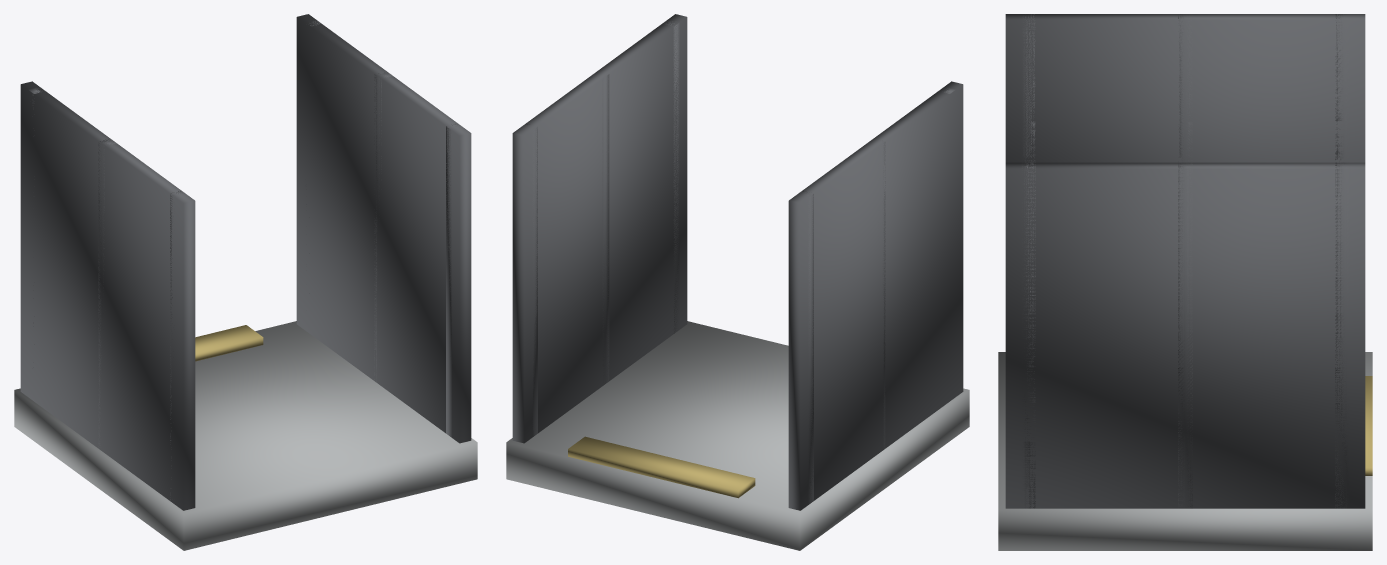
Rendered from floor_w100_d100_sides.glb.
The picture shows the model from 3 angles, left to right: view 1: azimuth 30°, elevation 25°; view 2: azimuth 150°, elevation 25°; view 3: azimuth 270°, elevation 25°; orthographic projection. The views are drawn at different scales.
Parts seen in each view (by area): view 1: world; view 2: world; view 3: world.
Part boxes in pixels (x1,y1,x2,y2): world: [14, 14, 477, 550]; world: [506, 14, 969, 550]; world: [998, 14, 1372, 550].
Bounding box in the file's own units: 1 × 1.12 × 1.
